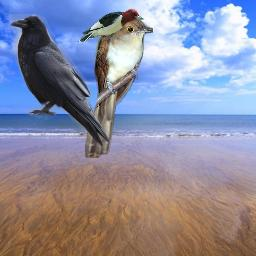Crow: (9, 14, 112, 149)
Cuckoo: (85, 17, 153, 158)
Woodpecker: (75, 6, 145, 47)
